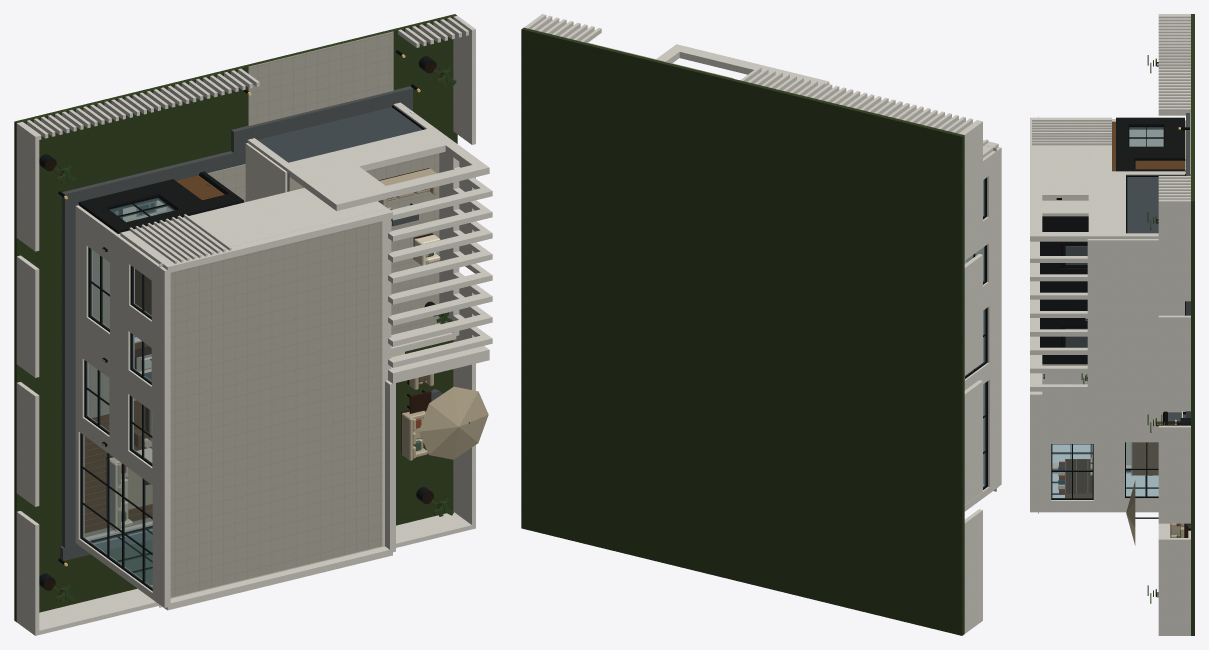
File: COONE_House_Full.obj
3 views of the same model, side by side, from view 1: azimuth 30°, elevation 25°; view 2: azimuth 150°, elevation 25°; view 3: azimuth 270°, elevation 25° (orthographic). The views are drawn at different scales.
Visible parts, largest first — view 1: roof_tile, landscape_grass, landscape_stucco, pergola_stucco, architecture_stucco, roof_stucco, architecture_glass, architecture_stone, landscape_tile, structure_upper_stucco, architecture_frame, door_04_metal (+9 smaller); view 2: landscape_grass, landscape_stucco, architecture_stucco, roof_stucco, pergola_stucco, architecture_frame, architecture_glass; view 3: architecture_stucco, landscape_stucco, pergola_stucco, architecture_glass, structure_upper_charcoal, structure_upper_stucco, architecture_charcoal, landscape_grass, door_04_metal, roof_stucco, architecture_frame, ground_wardrobe_oak (+7 smaller).
Boxes of the visible parts, x1,y1,x2,y2 form: roof_tile: [170, 221, 382, 597]; landscape_grass: [14, 14, 457, 621]; landscape_stucco: [16, 15, 475, 635]; pergola_stucco: [129, 133, 492, 383]; architecture_stucco: [75, 102, 441, 603]; roof_stucco: [159, 207, 395, 610]; architecture_glass: [82, 198, 174, 588]; architecture_stone: [62, 86, 412, 558]; landscape_tile: [248, 31, 393, 125]; structure_upper_stucco: [120, 188, 386, 263]; architecture_frame: [80, 196, 176, 590]; door_04_metal: [258, 107, 422, 162]; landscape_grass: [521, 27, 964, 635]; landscape_stucco: [524, 14, 982, 633]; architecture_stucco: [964, 151, 996, 511]; roof_stucco: [983, 140, 1001, 491]; pergola_stucco: [656, 44, 988, 145]; architecture_frame: [965, 177, 987, 489]; architecture_glass: [965, 179, 985, 487]; architecture_stucco: [1039, 119, 1184, 512]; landscape_stucco: [1158, 14, 1190, 635]; pergola_stucco: [1030, 119, 1111, 406]; architecture_glass: [1052, 127, 1163, 498]; structure_upper_charcoal: [1040, 216, 1088, 364]; structure_upper_stucco: [1039, 117, 1111, 216]; architecture_charcoal: [1116, 117, 1185, 315]; landscape_grass: [1191, 14, 1194, 635]; door_04_metal: [1127, 177, 1158, 233]; roof_stucco: [1030, 116, 1038, 513]; architecture_frame: [1051, 125, 1164, 499]; ground_wardrobe_oak: [1132, 442, 1158, 475].
Size of the model in its own units: 876 by 948 by 326.
